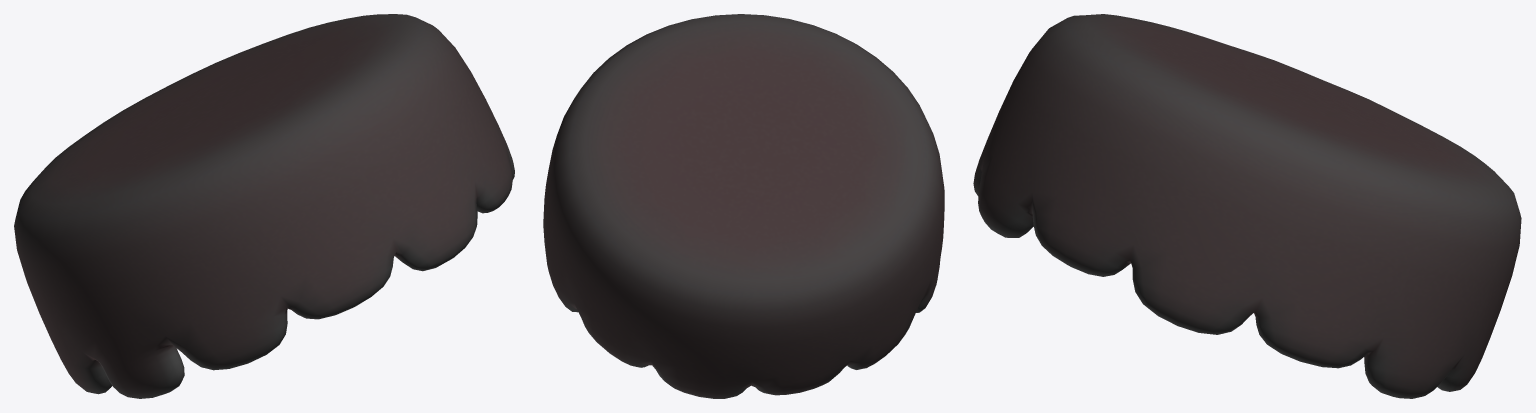
The picture shows the model from 3 angles, left to right: view 1: azimuth 30°, elevation 25°; view 2: azimuth 150°, elevation 25°; view 3: azimuth 270°, elevation 25°; orthographic projection. The views are drawn at different scales.
Parts seen in each view (by area): view 1: Cylinder.433; view 2: Cylinder.433; view 3: Cylinder.433.
Part boxes in pixels (x1=…): Cylinder.433: x1=14, y1=14, x2=514, y2=398; Cylinder.433: x1=543, y1=14, x2=944, y2=398; Cylinder.433: x1=973, y1=14, x2=1521, y2=398.
Size of the model in its own units: 6.28 by 4.67 by 6.27.
Materials: 1 (1 with a texture image).
